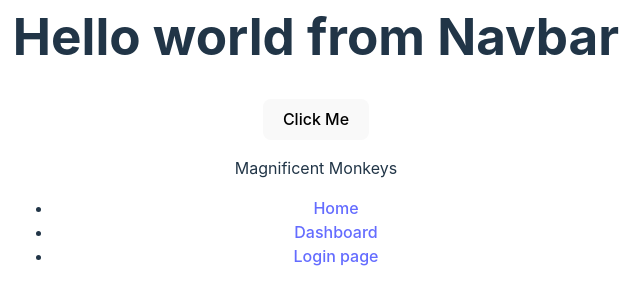
Test case: Navbar component › renders radical rhinos after button click
The image size is (636, 283).
Click the button "Click Me".
click(316, 120)  # box [263,99,369,140]
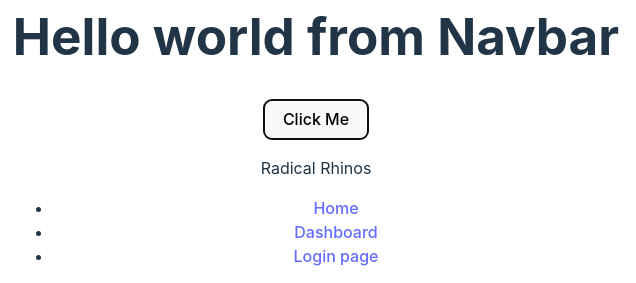
Expected: the text "Radical Rhinos" is shown, [261,158,371,178]
